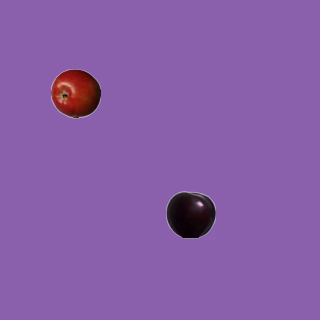Apple Braeburn: (50, 68, 100, 118)
Cherry Wax Black: (165, 189, 215, 239)
